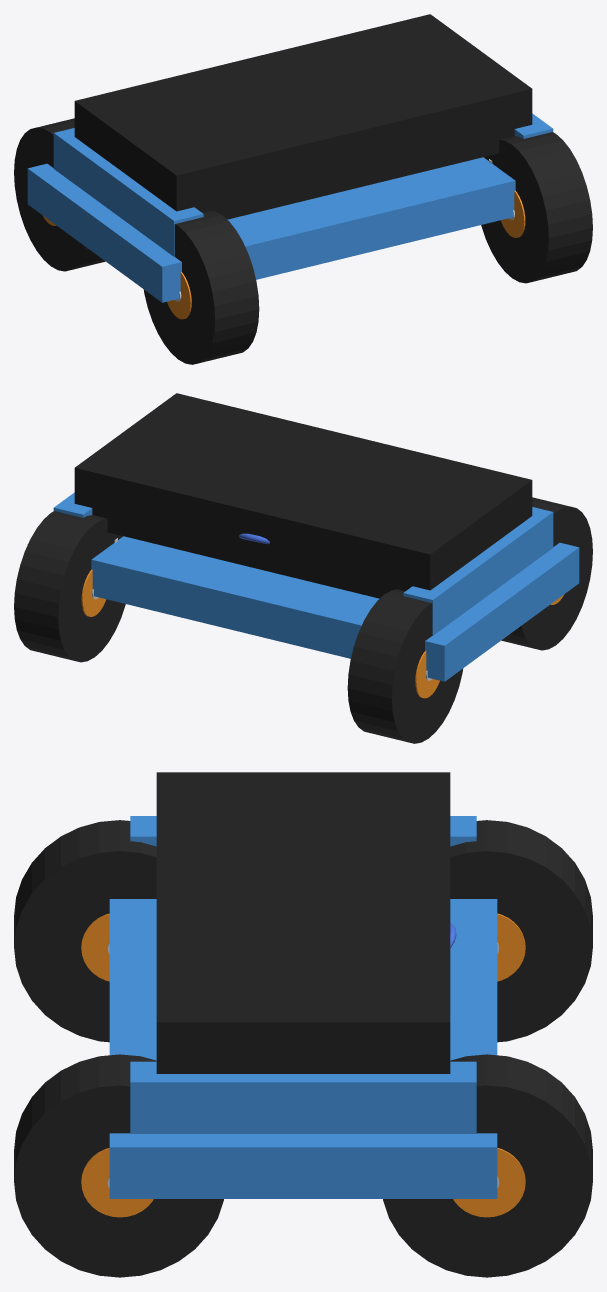
The model's file is robo_realistico.glb.
3 renders of one model, top to bottom at view 1: azimuth 30°, elevation 25°; view 2: azimuth 150°, elevation 25°; view 3: azimuth 270°, elevation 25°, orthographic. The views are drawn at different scales.
Parts seen in each view (by area): view 1: Topo_Preteo, Base_Azul, Tire_0.7_-0.5, Tire_-0.7_-0.5, Cubo, Tire_-0.7_0.5, Cilindro, Cilindro.004, Cubo.001; view 2: Topo_Preteo, Base_Azul, Tire_0.7_0.5, Tire_-0.7_0.5, Cubo, Tire_-0.7_-0.5, Cilindro.002, Cilindro.006, Cubo.001; view 3: Topo_Preteo, Base_Azul, Tire_0.7_0.5, Tire_0.7_-0.5, Cubo.001, Tire_-0.7_0.5, Tire_-0.7_-0.5, Cilindro.004, Cilindro.006, Cubo, Cilindro, Cilindro.002.
Part boxes in pixels (<box>): Topo_Preteo: <box>74,14,532,219</box>; Base_Azul: <box>27,157,579,302</box>; Tire_0.7_-0.5: <box>481,132,592,283</box>; Tire_-0.7_-0.5: <box>143,210,259,364</box>; Cubo: <box>53,128,203,256</box>; Tire_-0.7_0.5: <box>14,118,105,271</box>; Cilindro: <box>167,272,191,319</box>; Cilindro.004: <box>501,190,525,237</box>; Cubo.001: <box>514,113,553,138</box>; Topo_Preteo: <box>74,393,532,598</box>; Base_Azul: <box>27,536,579,681</box>; Tire_0.7_0.5: <box>14,511,125,662</box>; Tire_-0.7_0.5: <box>347,589,463,743</box>; Cubo: <box>403,507,553,635</box>; Tire_-0.7_-0.5: <box>501,497,592,650</box>; Cilindro.002: <box>415,651,439,698</box>; Cilindro.006: <box>81,569,105,616</box>; Cubo.001: <box>53,492,92,517</box>; Topo_Preteo: <box>156,772,450,1073</box>; Base_Azul: <box>109,899,497,1198</box>; Tire_0.7_0.5: <box>383,1054,592,1277</box>; Tire_0.7_-0.5: <box>14,1054,223,1277</box>; Cubo.001: <box>130,1061,476,1133</box>; Tire_-0.7_0.5: <box>450,820,592,1042</box>; Tire_-0.7_-0.5: <box>14,820,156,1042</box>; Cilindro.004: <box>81,1148,153,1217</box>; Cilindro.006: <box>453,1148,525,1217</box>; Cubo: <box>130,816,476,846</box>; Cilindro: <box>81,913,109,981</box>; Cilindro.002: <box>497,913,525,981</box>.
Size of what is drawn, in the model's own units: 1.7 by 0.67 by 1.42.
